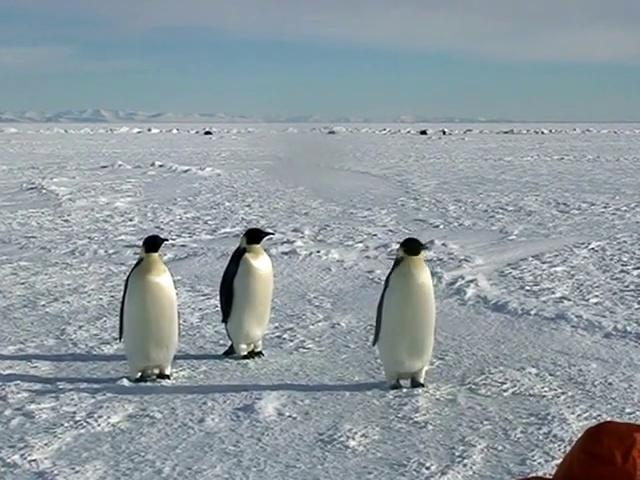animal: (374, 239, 437, 390)
